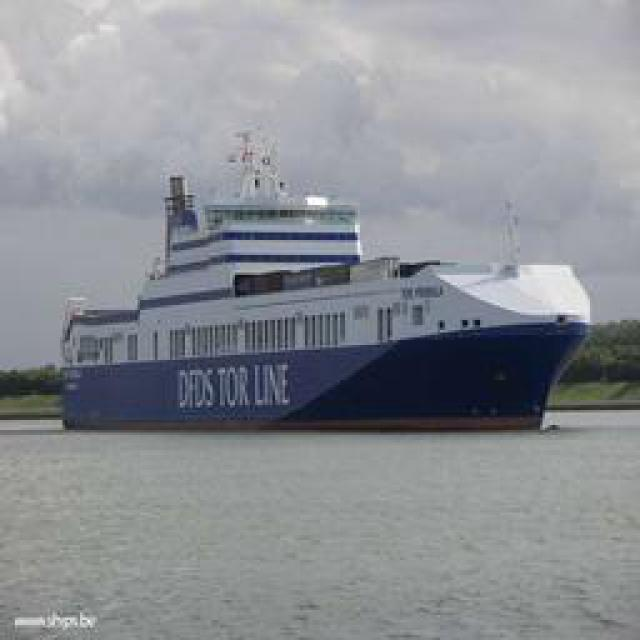Ship: (60, 147, 590, 430)
